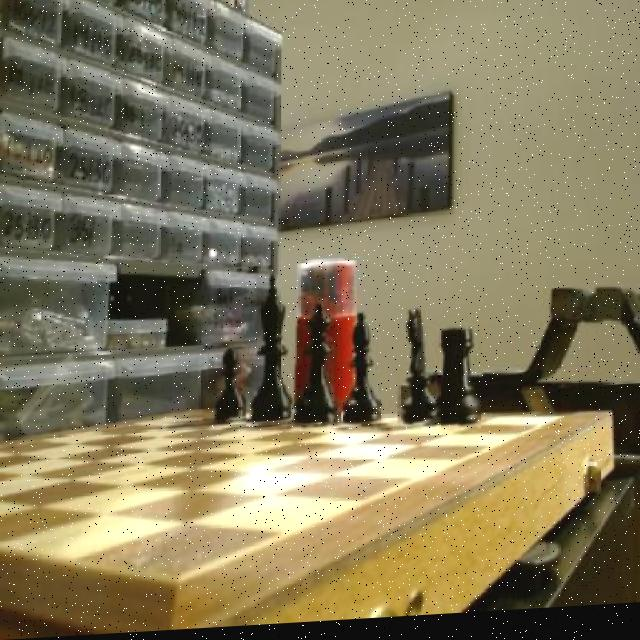bishop: (344, 312, 384, 432)
black-bishop: (251, 274, 297, 429)
black-king: (394, 307, 438, 432)
black-knight: (212, 347, 246, 432)
black-pawn: (292, 301, 342, 433)
black-queen: (437, 325, 484, 437)
